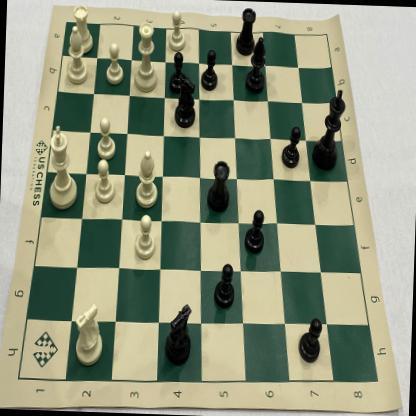bishop: (129, 146, 163, 214), (63, 21, 92, 88), (244, 32, 268, 97)
king: (44, 119, 84, 216), (310, 85, 349, 173)
knight: (68, 294, 109, 374), (160, 294, 196, 369), (168, 71, 202, 131)
pawn: (89, 154, 120, 209), (296, 312, 324, 366), (133, 210, 159, 266), (210, 258, 238, 310), (102, 35, 128, 90), (93, 113, 119, 167), (242, 204, 268, 258), (164, 48, 190, 96), (166, 6, 189, 56), (198, 47, 222, 93), (280, 122, 302, 171)
queen: (129, 16, 163, 98)
rook: (204, 156, 236, 216), (68, 0, 98, 57), (231, 3, 259, 59)
